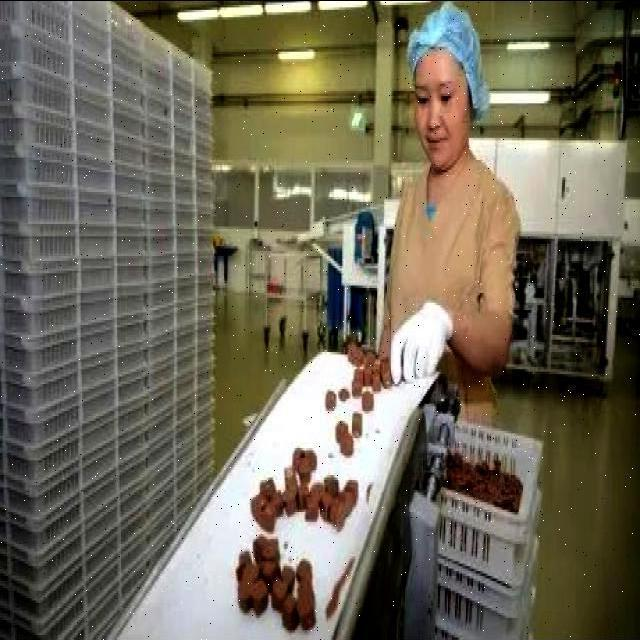apron: (385, 301, 461, 364)
